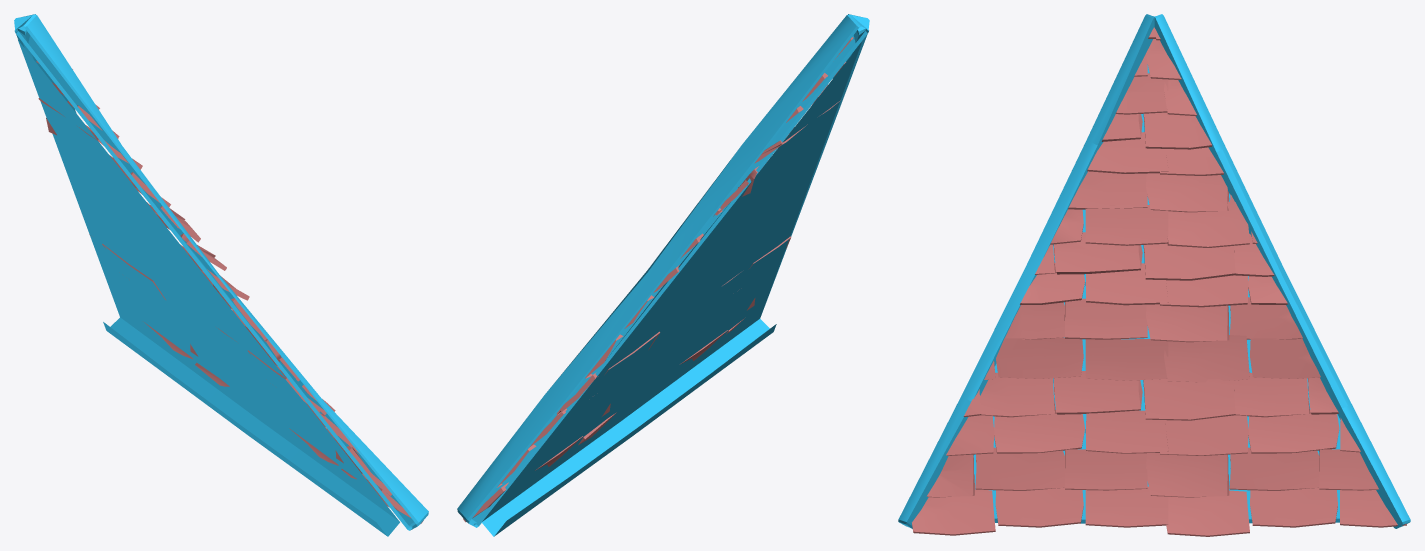
File: Roof_01_half_triangle_01.fbx
The picture shows the model from 3 angles, left to right: view 1: azimuth 30°, elevation 25°; view 2: azimuth 150°, elevation 25°; view 3: azimuth 270°, elevation 25°; orthographic projection. The views are drawn at different scales.
Parts seen in each view (by area): view 1: Roof_01_half_triangle_01_LOD0; view 2: Roof_01_half_triangle_01_LOD0; view 3: Roof_01_half_triangle_01_LOD0.
Boxes of the visible parts, x1,y1,x2,y2 form: Roof_01_half_triangle_01_LOD0: (14, 14, 428, 536); Roof_01_half_triangle_01_LOD0: (457, 14, 869, 536); Roof_01_half_triangle_01_LOD0: (898, 14, 1410, 536).
Size of what is drawn, in the model's own units: 422 by 705 by 788.
